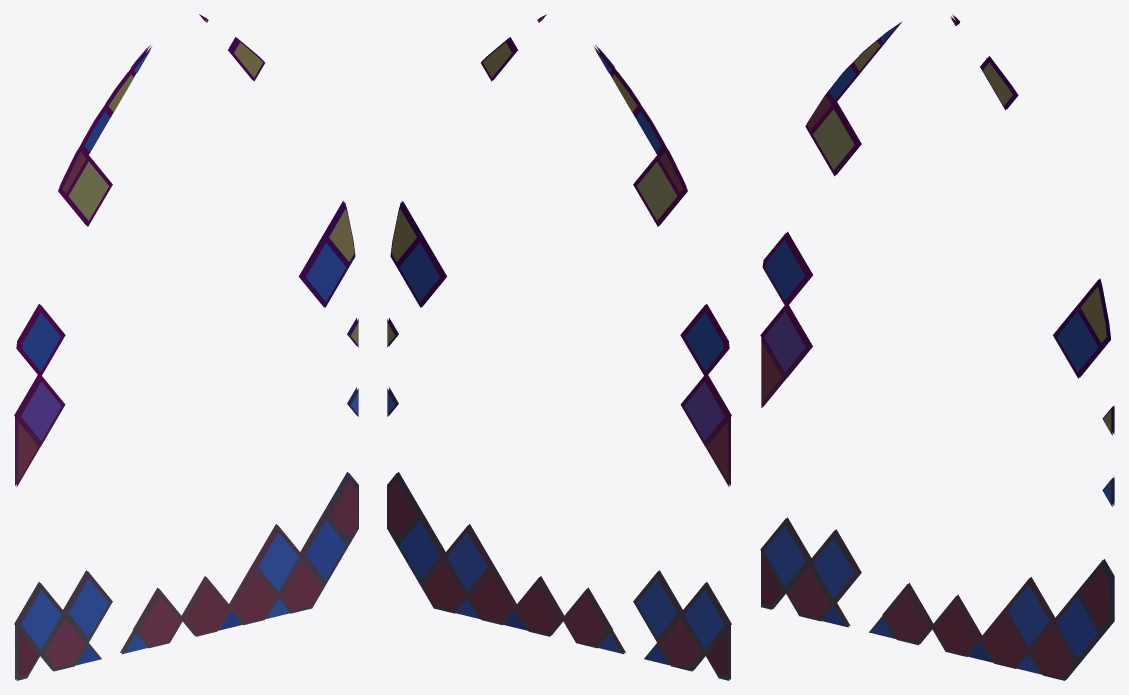
Rendered from glass_lancet_broken.glb.
3 views of the same model, side by side, from view 1: azimuth 30°, elevation 25°; view 2: azimuth 150°, elevation 25°; view 3: azimuth 330°, elevation 25° (orthographic). The views are drawn at different scales.
Parts seen in each view (by area): view 1: glass_lancet_broken, glass_backing_broken; view 2: glass_lancet_broken, glass_backing_broken; view 3: glass_lancet_broken, glass_backing_broken.
Part boxes in pixels (x1,y1,x2,y2): glass_lancet_broken: (18,17,358,676); glass_backing_broken: (14,14,358,680); glass_lancet_broken: (387,17,727,676); glass_backing_broken: (387,14,731,680); glass_lancet_broken: (761,15,1114,677); glass_backing_broken: (760,14,1114,680).
Size of the model in its own units: 1.45 by 2.5 by 0.024.
